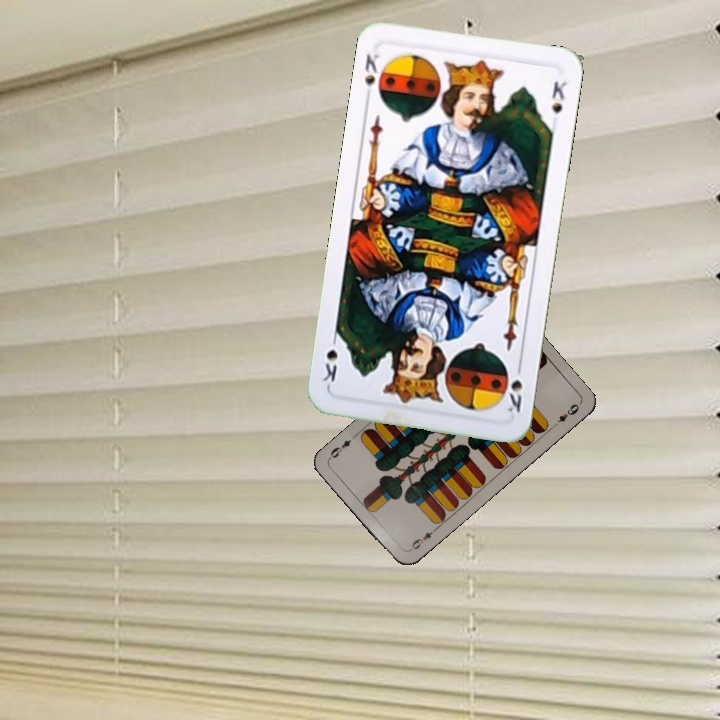E9: (405, 524, 440, 554)
SK: (501, 358, 525, 415), (360, 50, 383, 88)
